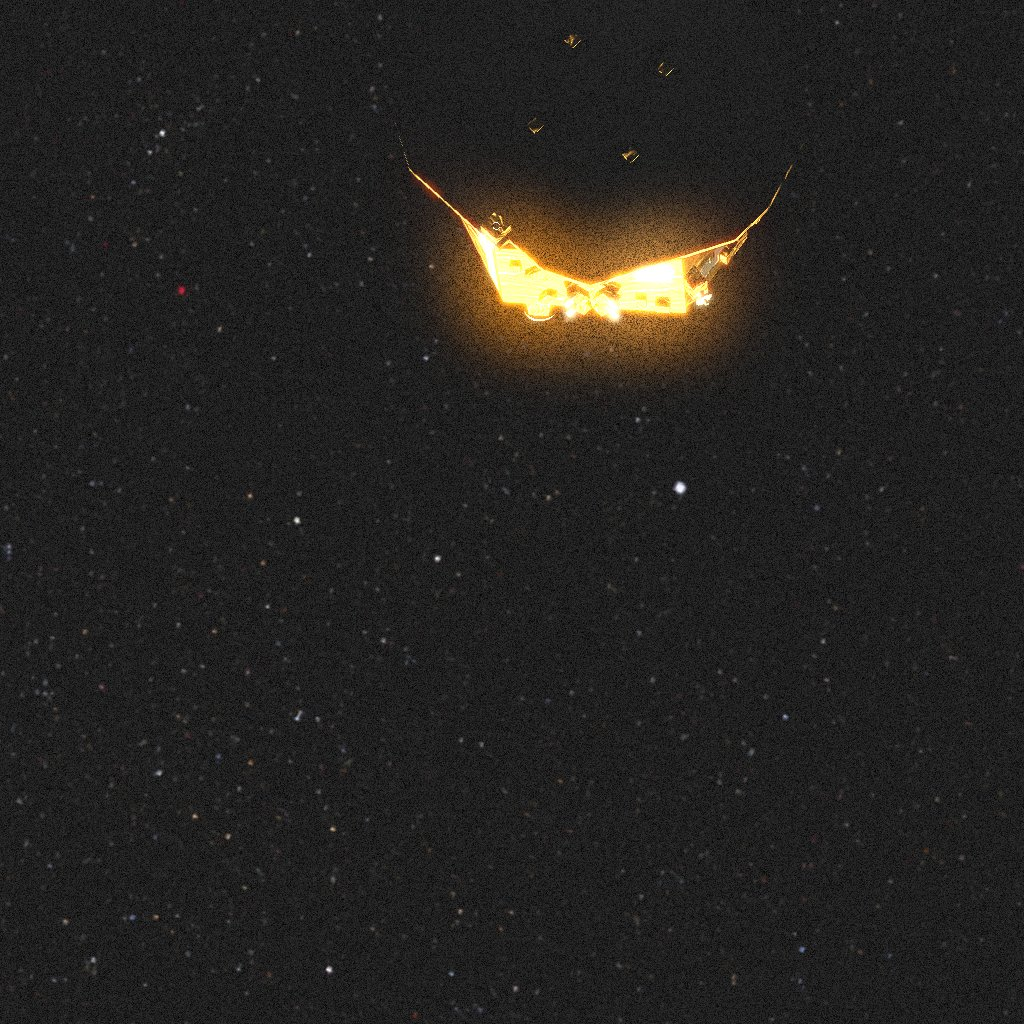lisa_pathfinder: (430, 28, 803, 344)
